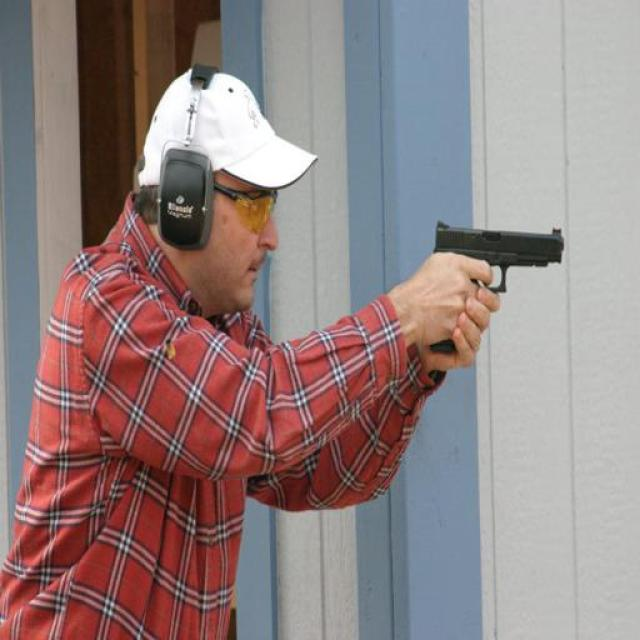pistol: (428, 219, 564, 355)
